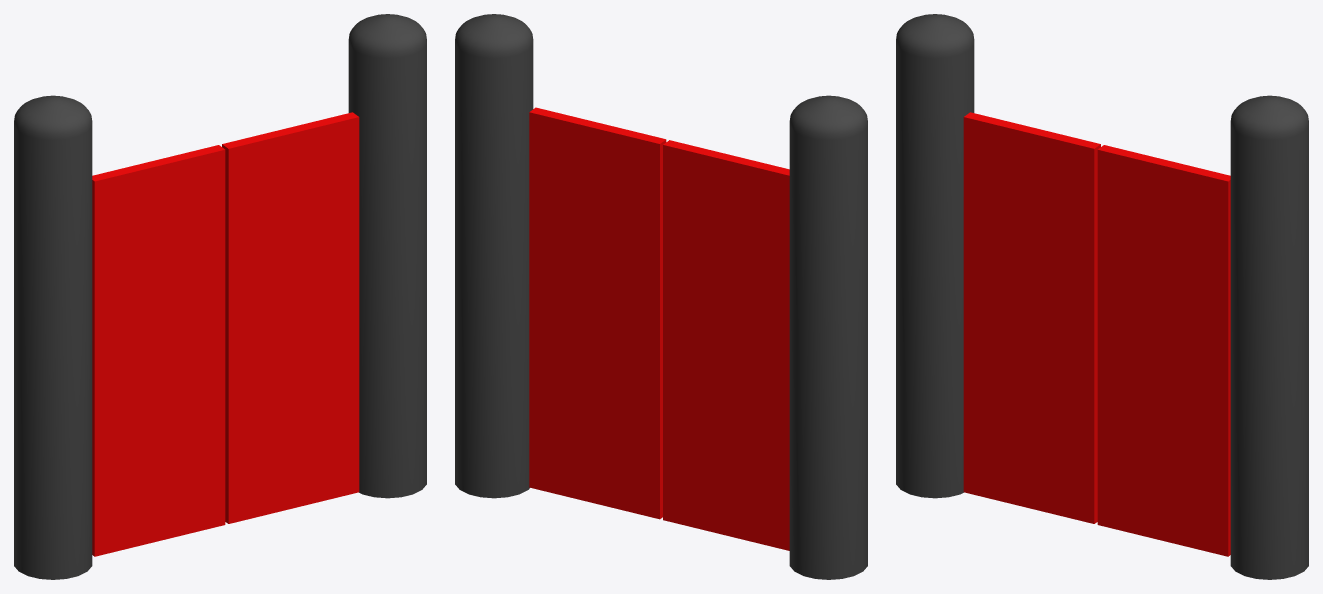
Rendered from kirmizi_kapi.FBX.
The picture shows the model from 3 angles, left to right: view 1: azimuth 30°, elevation 25°; view 2: azimuth 150°, elevation 25°; view 3: azimuth 330°, elevation 25°; orthographic projection.
Visible parts, largest first — view 1: kapi_cubuk, sol_kapi, sag_kapi; view 2: kapi_cubuk, sol_kapi, sag_kapi; view 3: kapi_cubuk, sag_kapi, sol_kapi.
Part boxes in pixels (x1,y1,x2,y2): kapi_cubuk: [14, 14, 426, 579]; sol_kapi: [222, 112, 359, 523]; sag_kapi: [92, 145, 225, 556]; kapi_cubuk: [455, 14, 867, 579]; sol_kapi: [529, 107, 666, 519]; sag_kapi: [663, 140, 789, 550]; kapi_cubuk: [896, 14, 1308, 579]; sag_kapi: [963, 112, 1100, 523]; sol_kapi: [1097, 145, 1230, 556].
Size of the model in its own units: 199 by 219 by 33.35.
